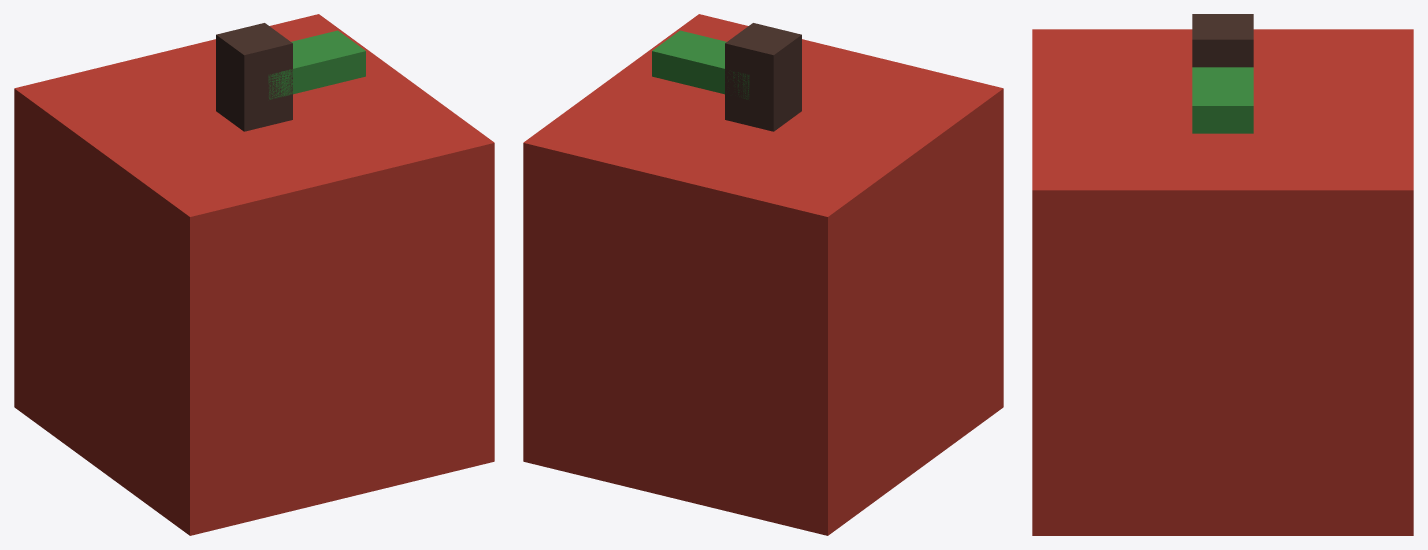
Rendered from apple.glb.
3 renders of one model, left to right at view 1: azimuth 30°, elevation 25°; view 2: azimuth 150°, elevation 25°; view 3: azimuth 270°, elevation 25°, orthographic. The views are drawn at different scales.
Parts seen in each view (by area): view 1: Apple; view 2: Apple; view 3: Apple.
Boxes of the visible parts, x1=… form: Apple: x1=14, y1=14, x2=494, y2=535; Apple: x1=523, y1=14, x2=1003, y2=535; Apple: x1=1032, y1=14, x2=1413, y2=535.
Size of the model in its own units: 0.25 by 0.31 by 0.25.
